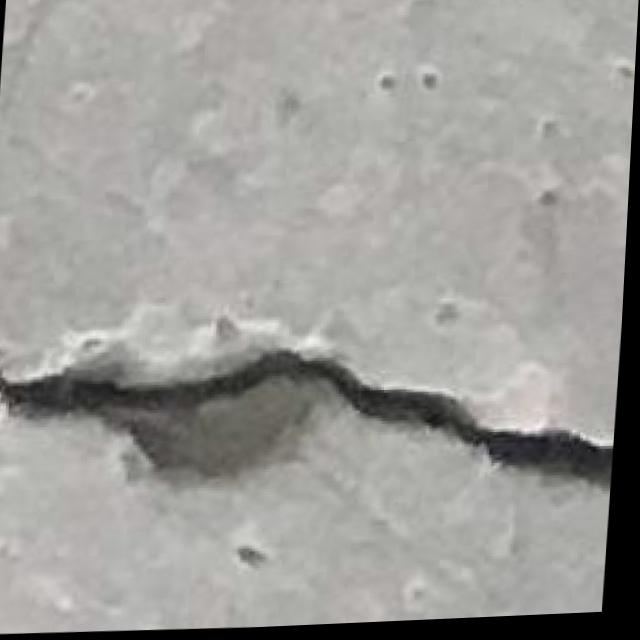Crack: (0, 285, 624, 561)
